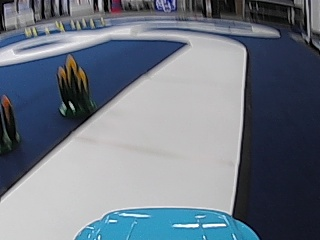corn: (55, 52, 95, 120), (0, 93, 21, 155)
